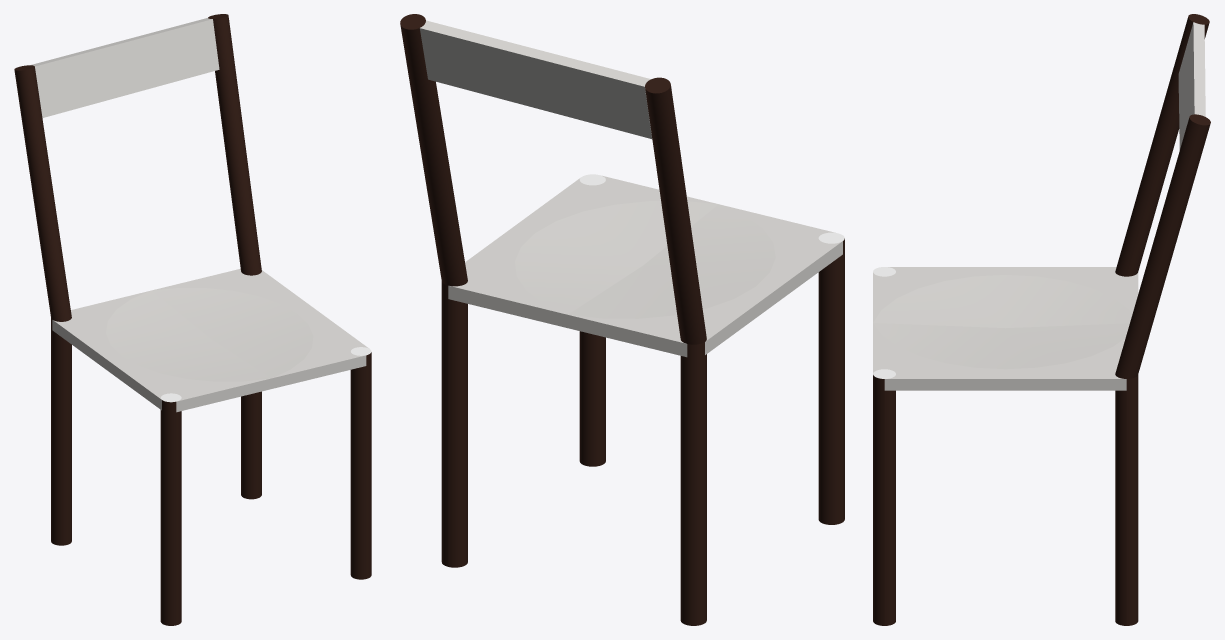
File: Chaise_1.fbx
3 views of the same model, side by side, from view 1: azimuth 30°, elevation 25°; view 2: azimuth 150°, elevation 25°; view 3: azimuth 270°, elevation 25° (orthographic). The views are drawn at different scales.
Visible parts, largest first — view 1: Layer0_001; view 2: Layer0_001; view 3: Layer0_001.
Boxes of the visible parts, <box> form: Layer0_001: <box>14,14,371,625</box>; Layer0_001: <box>400,14,844,625</box>; Layer0_001: <box>873,14,1210,625</box>.
Size of the model in its own units: 18.47 by 37.95 by 23.07.
